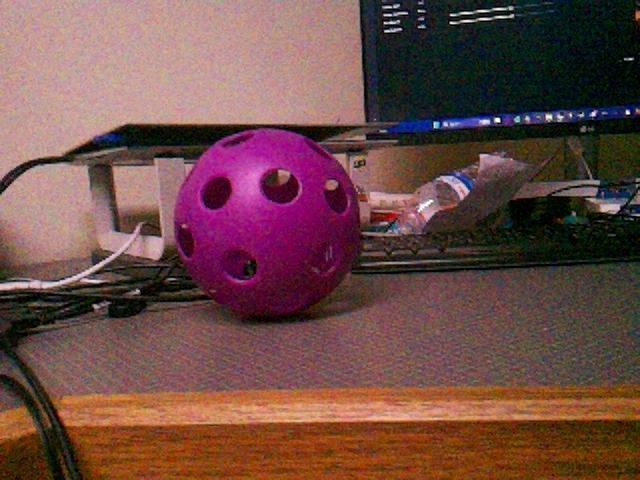Purple: (176, 127, 360, 320)
